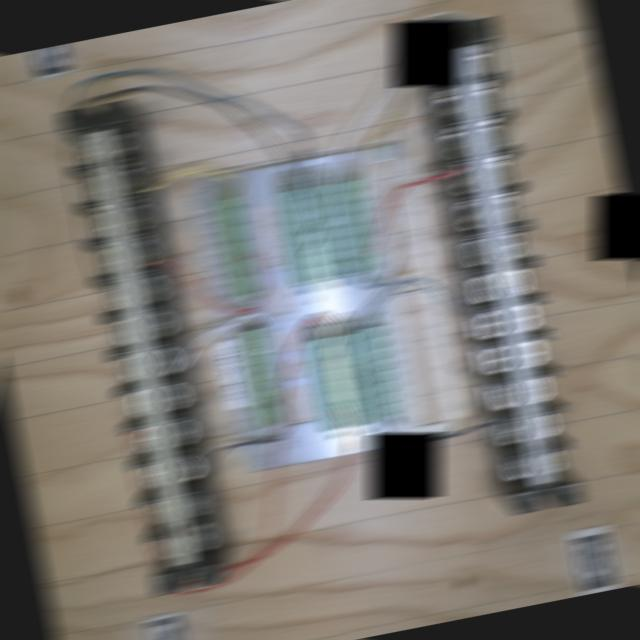Flathead_Block: (58, 100, 224, 595)
Phillips_Block: (424, 17, 585, 514)
Terminal_1: (237, 327, 285, 428), (214, 195, 259, 298)
Terminal_2: (304, 336, 348, 432), (276, 187, 319, 285), (336, 178, 379, 275), (333, 331, 376, 428), (306, 183, 349, 279)
